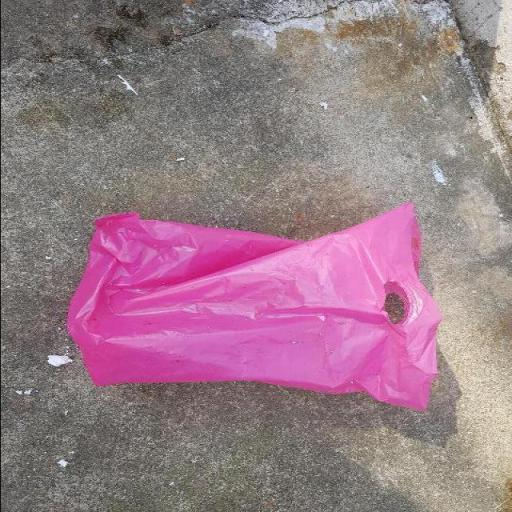plastic-bag: (62, 200, 440, 414)
